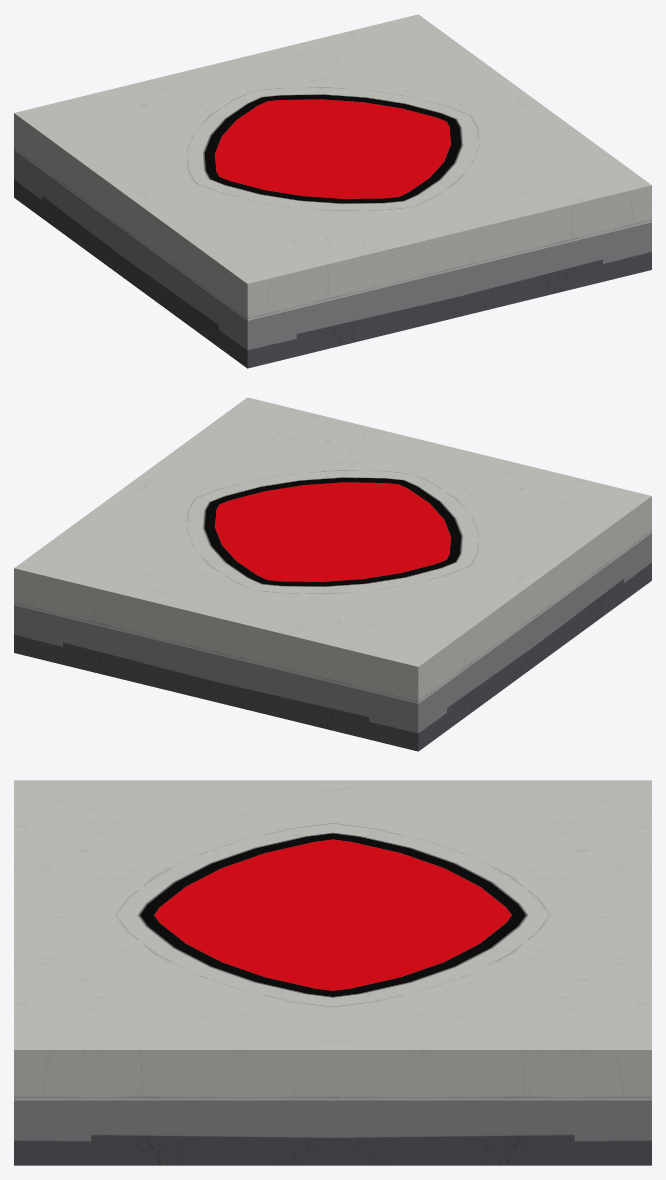
The model's file is G_Env_Arch_Floor_Metal_SingleCurvedInner.fbx.
3 views of the same model, one above another, from view 1: azimuth 30°, elevation 25°; view 2: azimuth 150°, elevation 25°; view 3: azimuth 270°, elevation 25° (orthographic). The views are drawn at different scales.
Parts seen in each view (by area): view 1: G_Env_Arch_Floor_Metal_SingleCurvedInner; view 2: G_Env_Arch_Floor_Metal_SingleCurvedInner; view 3: G_Env_Arch_Floor_Metal_SingleCurvedInner.
Part boxes in pixels (box(x1,y1,x2,y2)): G_Env_Arch_Floor_Metal_SingleCurvedInner: box(14, 14, 651, 368); G_Env_Arch_Floor_Metal_SingleCurvedInner: box(14, 397, 651, 751); G_Env_Arch_Floor_Metal_SingleCurvedInner: box(14, 780, 651, 1165).
Size of the model in its own units: 500 by 100 by 500.
